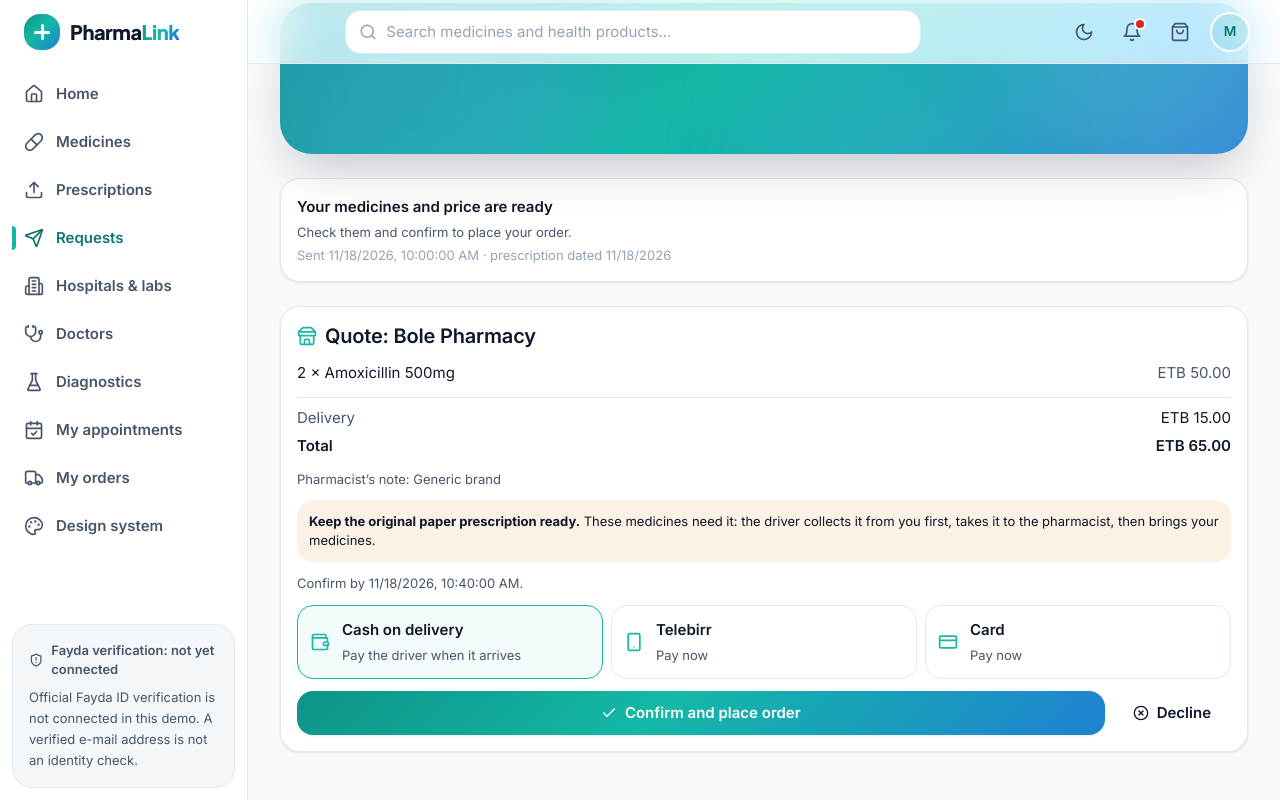
Test case: sending a prescription to nearby pharmacies (Work 138) › a quote that needs the original paper says so; paying now sends the method; declining ends it
This screenshot has width=1280, height=800.
(page scrolled)
Expected: the text "Keep the original paper prescription ready." is shown, [309, 513, 580, 529]
Click the radio button labelled "Telebirr Pay now" at [684, 629], box [611, 605, 917, 679]
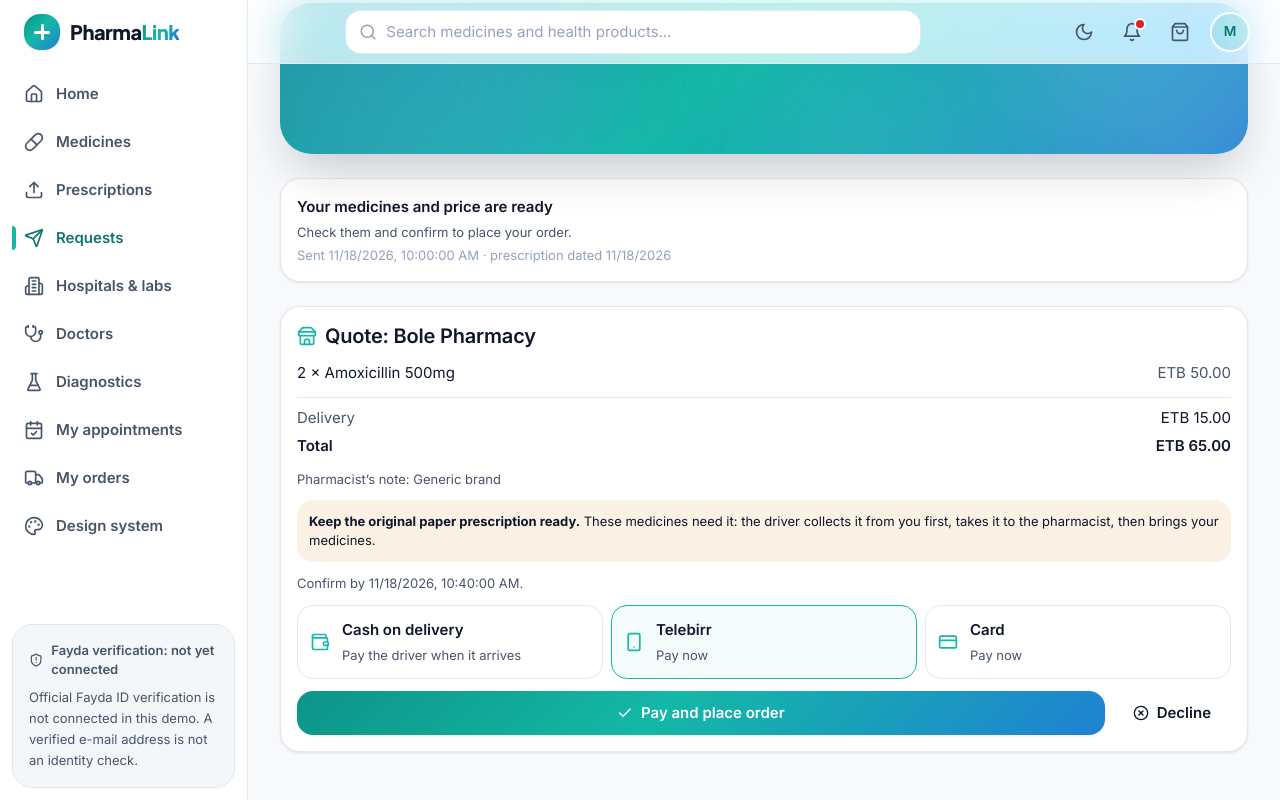
Expected: the button "Pay and place order" is shown, [297, 691, 1105, 735]
Click the button "Decline" at [1172, 713], box [1113, 691, 1231, 735]
(page scrolled)
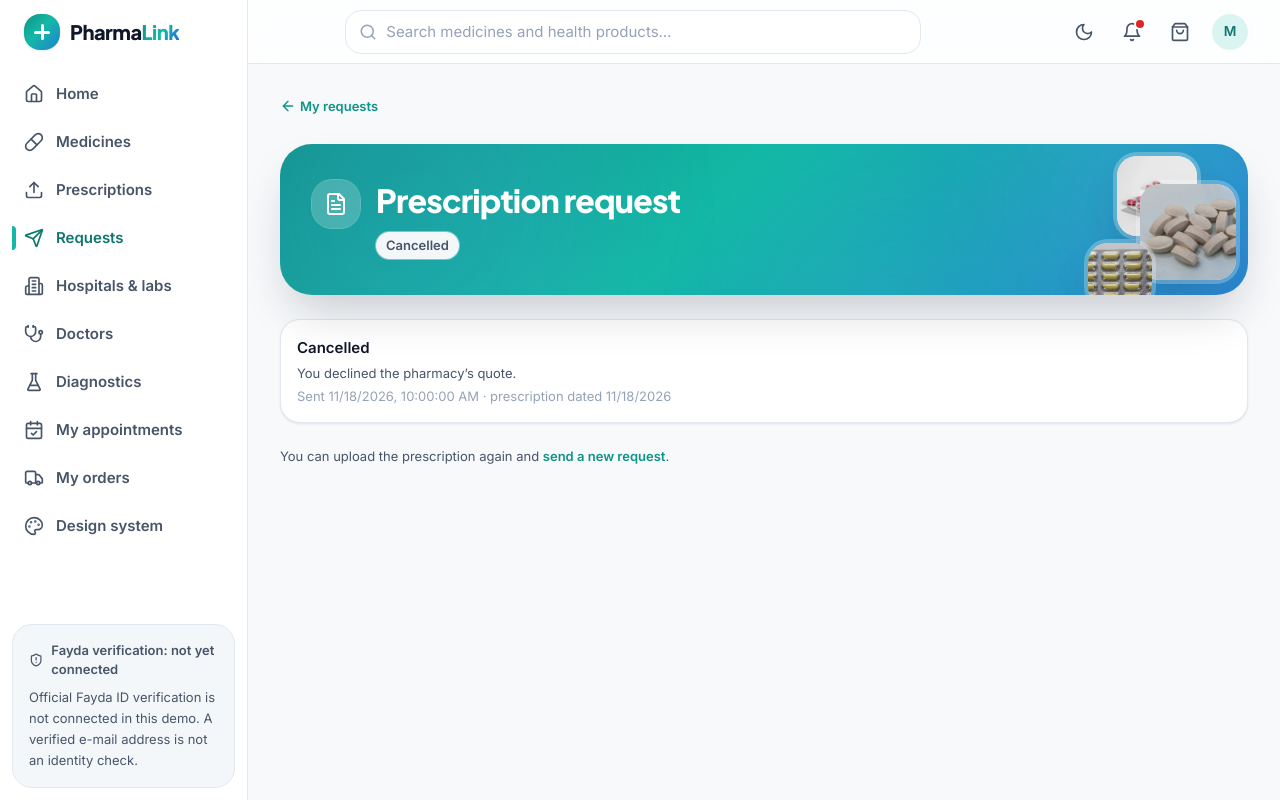
Expected: the text "You declined the pharmacy’s quote." is shown, [297, 365, 516, 381]
Expected: the link "send a new request" is shown, [543, 448, 665, 464]
